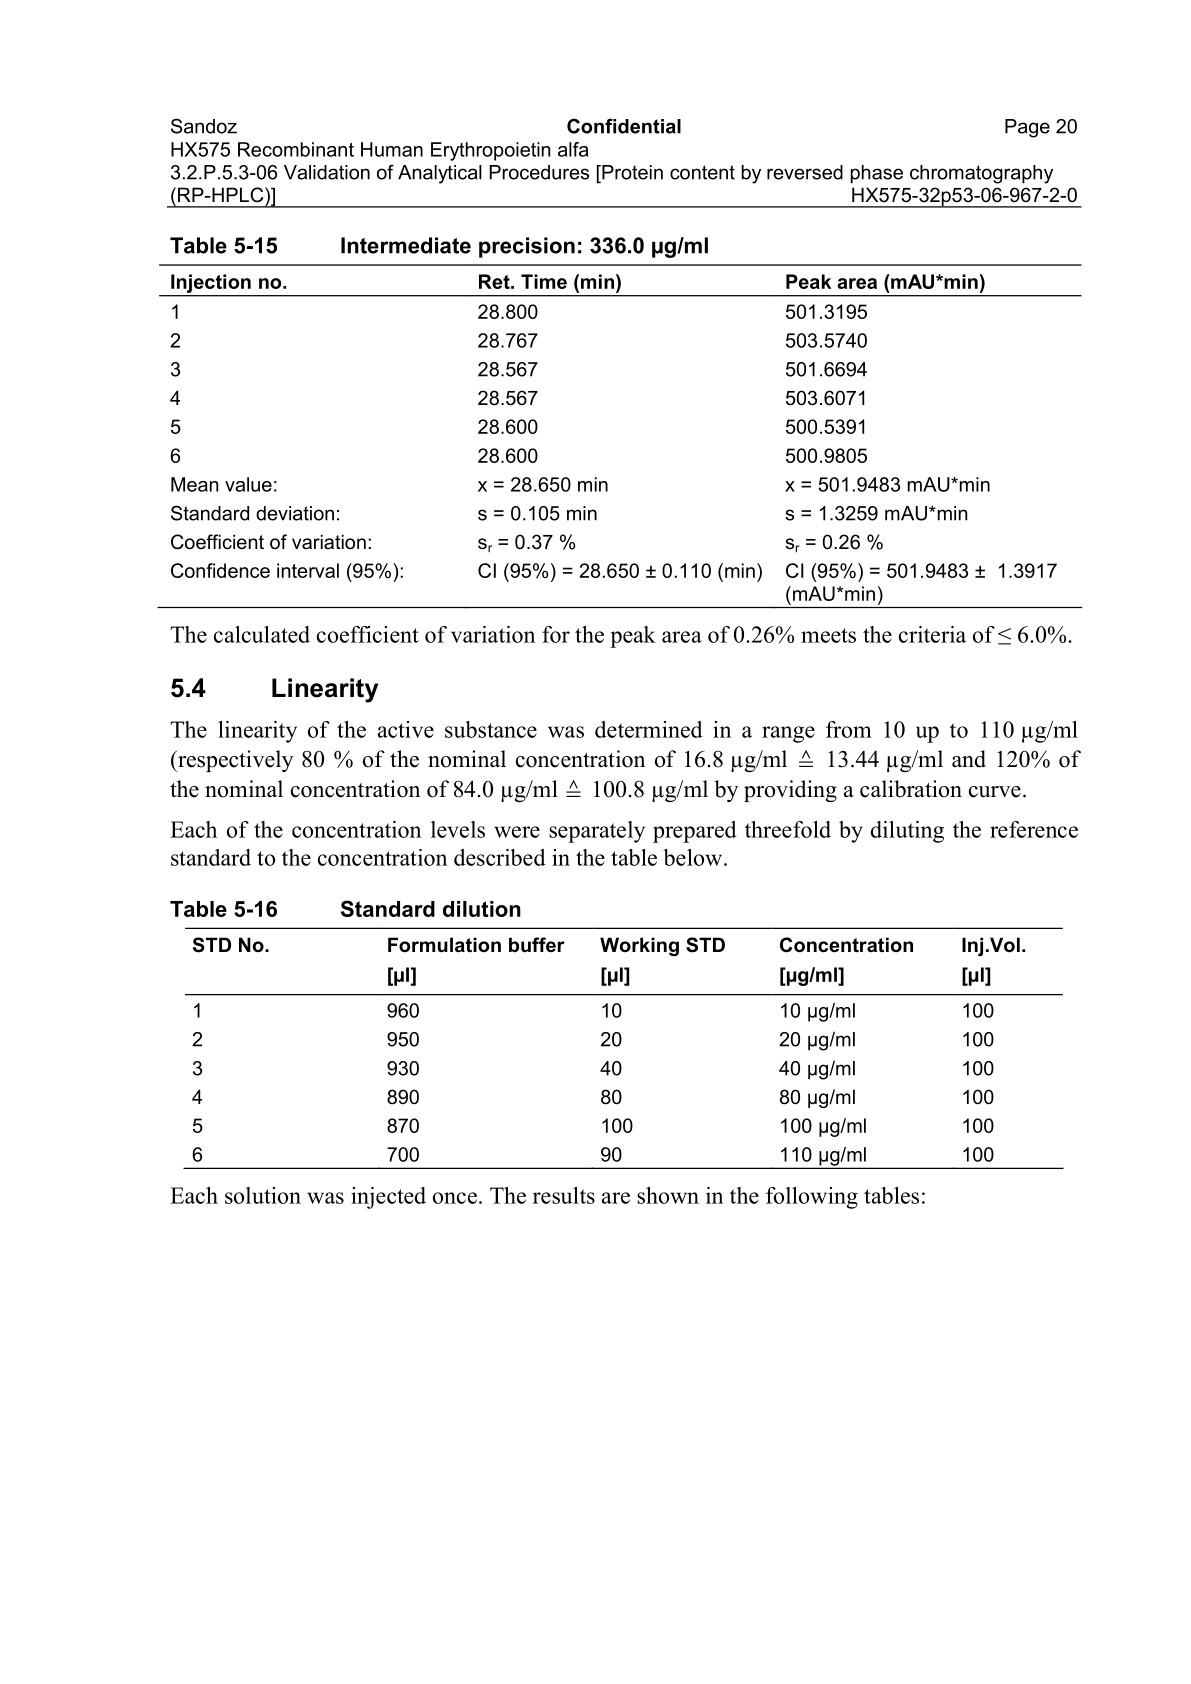partial_lined: (159, 263, 1087, 611), (182, 926, 1065, 1172)
